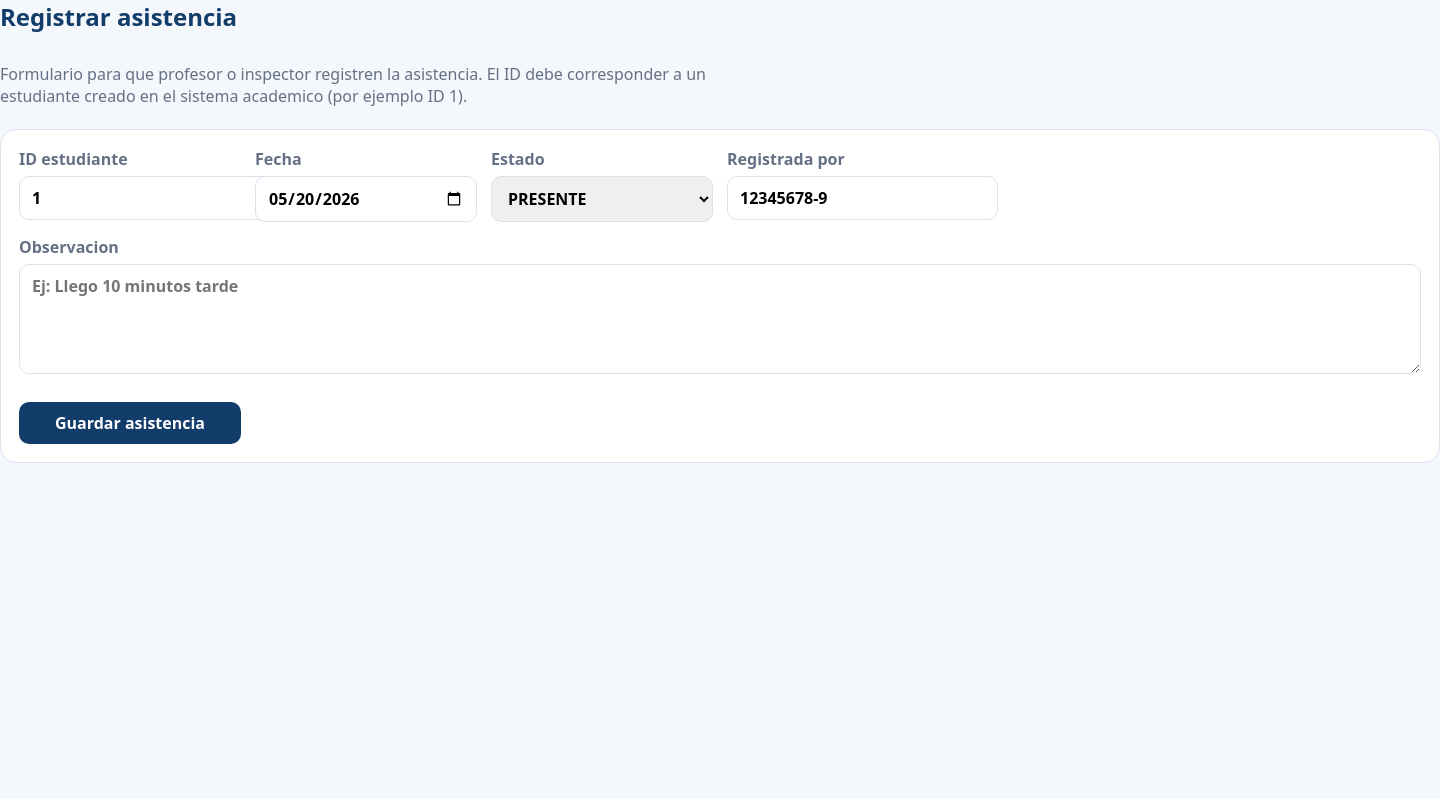
it: paginas frontend › RegistrarAsistencia envia datos y muestra exito
The image size is (1440, 799).
Click the button "Guardar asistencia". click: x=130, y=423
box: [19,402,241,444]
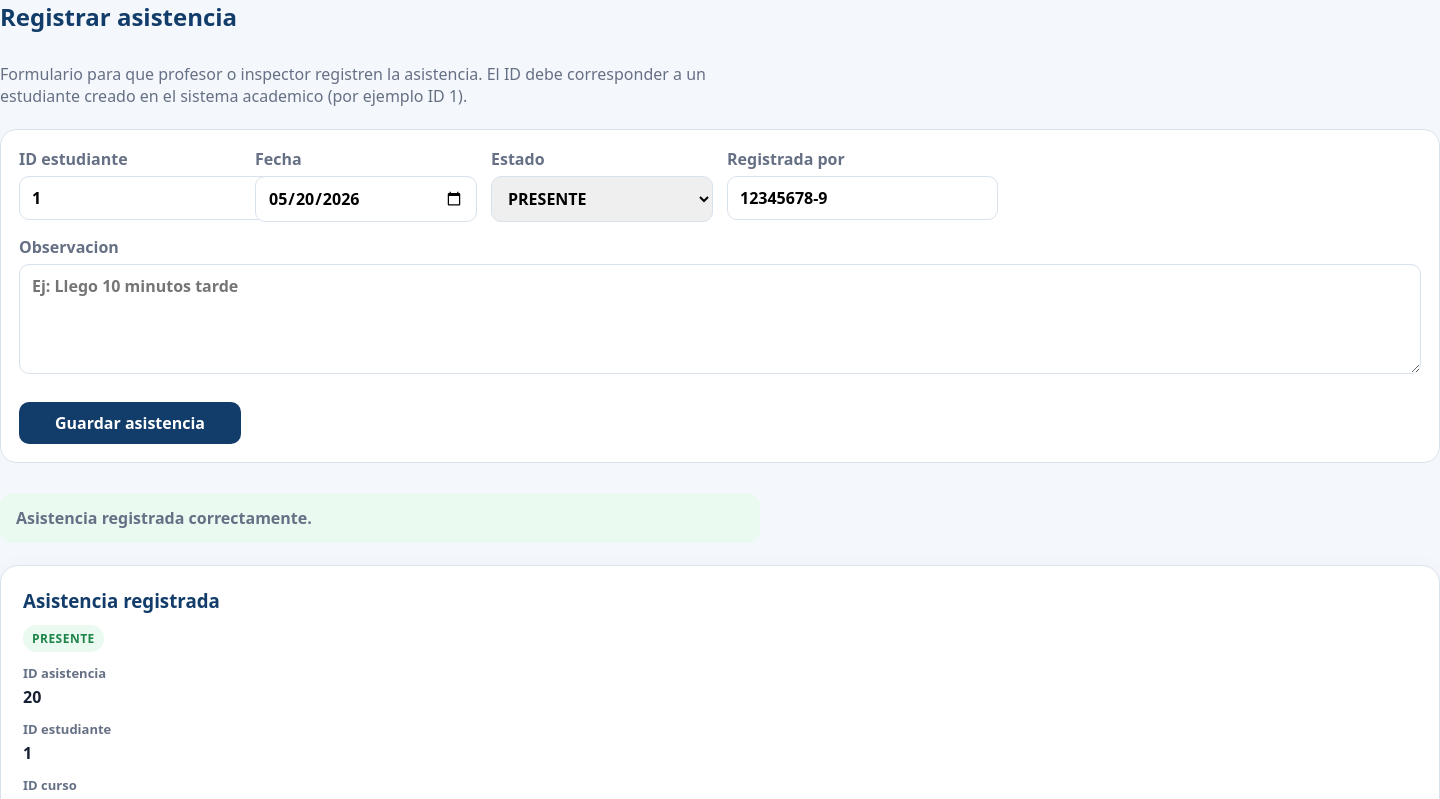
Check: the text "Asistencia registrada correctamente." is shown, box [0,493,760,543]
